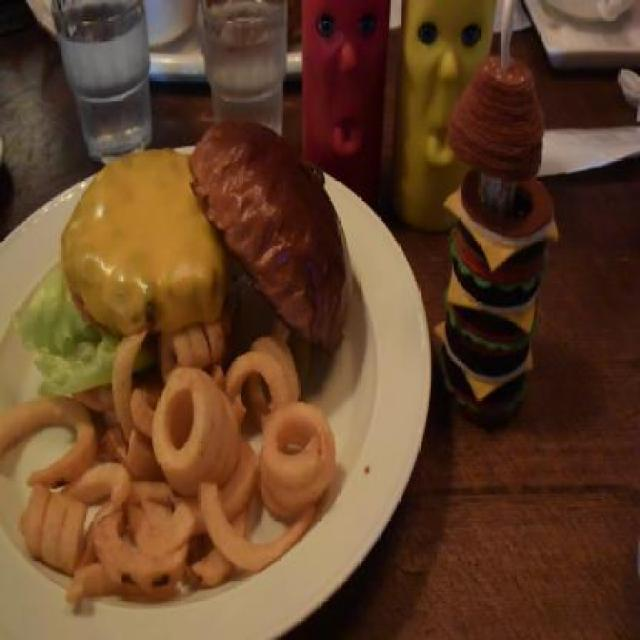Bagel: (189, 118, 357, 356), (62, 152, 230, 326)
